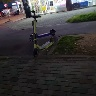beam: (26, 8, 58, 40)
gcooter: (27, 15, 56, 57)
